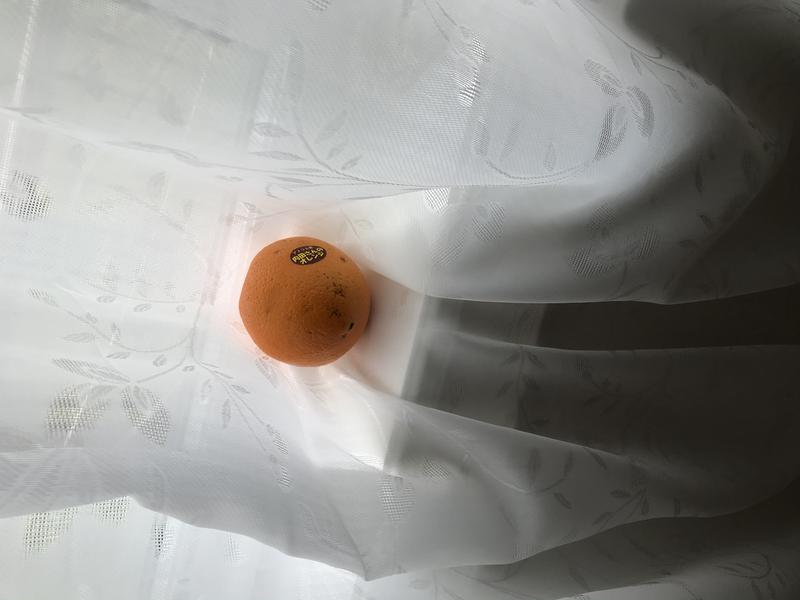orange: (232, 229, 380, 373)
